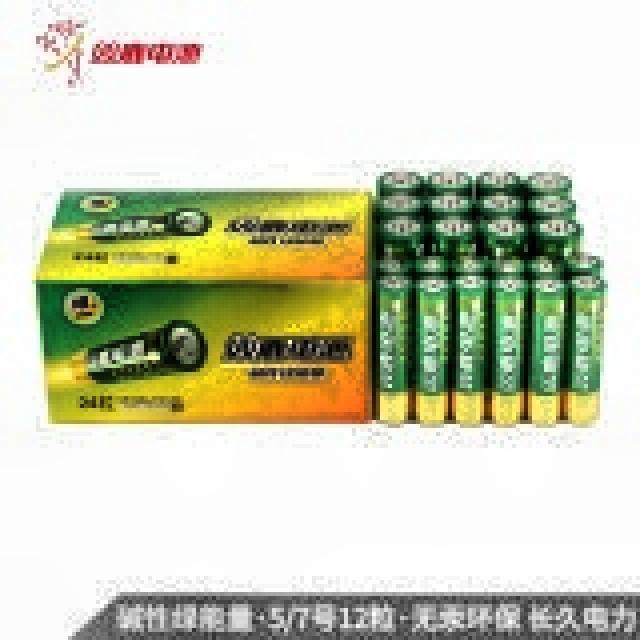battery: (564, 255, 604, 423), (451, 272, 489, 423), (491, 278, 528, 424), (528, 279, 565, 423), (376, 274, 412, 422), (415, 278, 450, 423), (479, 216, 528, 259), (530, 218, 580, 258), (380, 215, 424, 242), (430, 216, 475, 242), (528, 195, 575, 219), (526, 172, 571, 197), (476, 171, 521, 196), (428, 192, 471, 218), (478, 195, 525, 218), (379, 171, 422, 195), (428, 172, 472, 195), (379, 194, 424, 216)
